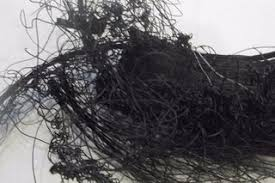fail: (1, 1, 275, 183)
